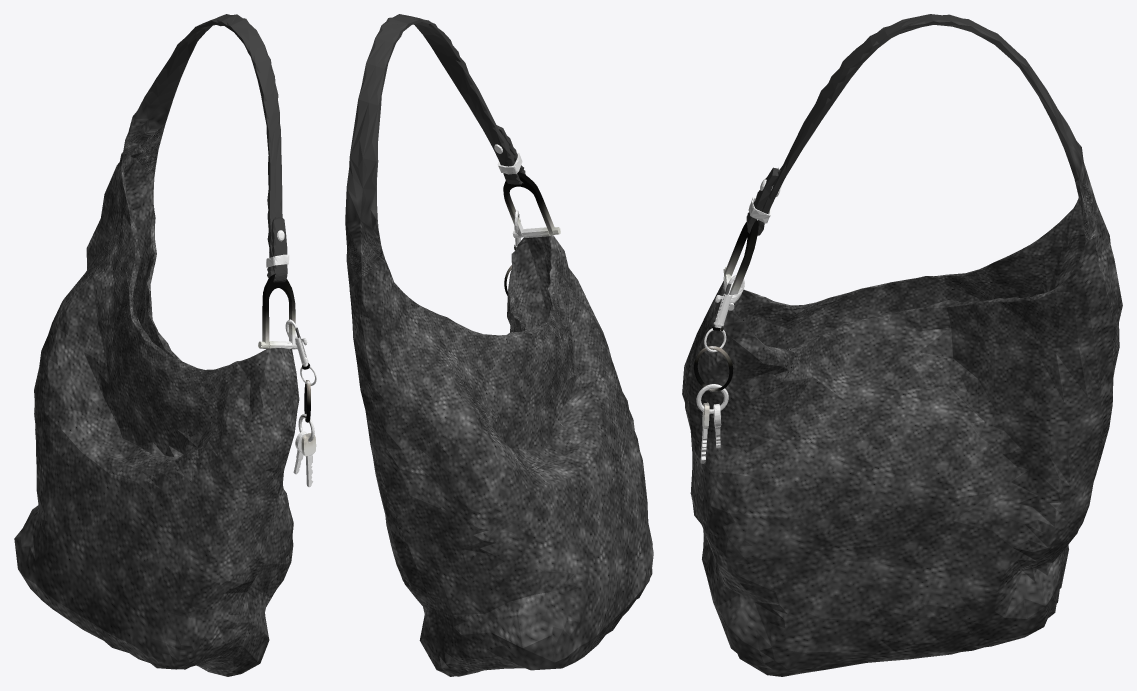
The model's file is mhw_elvs_sling_purse1.glb.
3 views of the same model, side by side, from view 1: azimuth 30°, elevation 25°; view 2: azimuth 150°, elevation 25°; view 3: azimuth 270°, elevation 25° (orthographic). The views are drawn at different scales.
Parts seen in each view (by area): view 1: mhw_elvs_sling_purse1; view 2: mhw_elvs_sling_purse1; view 3: mhw_elvs_sling_purse1.
Part boxes in pixels (x1,y1,x2,y2): mhw_elvs_sling_purse1: [14, 14, 316, 676]; mhw_elvs_sling_purse1: [345, 14, 653, 676]; mhw_elvs_sling_purse1: [682, 14, 1122, 676].
Bounding box in the file's own units: 0.2593 × 0.7484 × 0.4263.
Materials: 1 (1 with a texture image).
